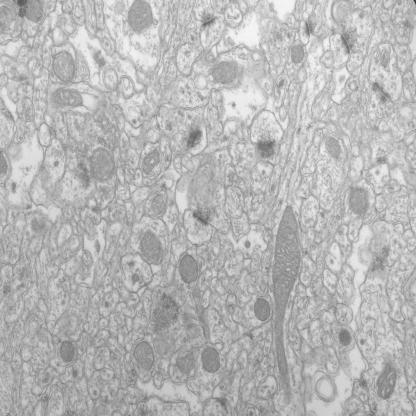mitochondria: (271, 204, 303, 406), (138, 226, 166, 268), (89, 146, 118, 184), (48, 50, 78, 86), (127, 0, 156, 36), (373, 364, 399, 403), (47, 86, 83, 112), (131, 340, 156, 372), (178, 251, 200, 287), (211, 59, 240, 86), (347, 187, 372, 217), (198, 345, 223, 374), (140, 146, 162, 174), (57, 338, 76, 366), (148, 191, 168, 216), (253, 296, 272, 322), (324, 136, 342, 160), (289, 41, 305, 65), (336, 326, 353, 348)
